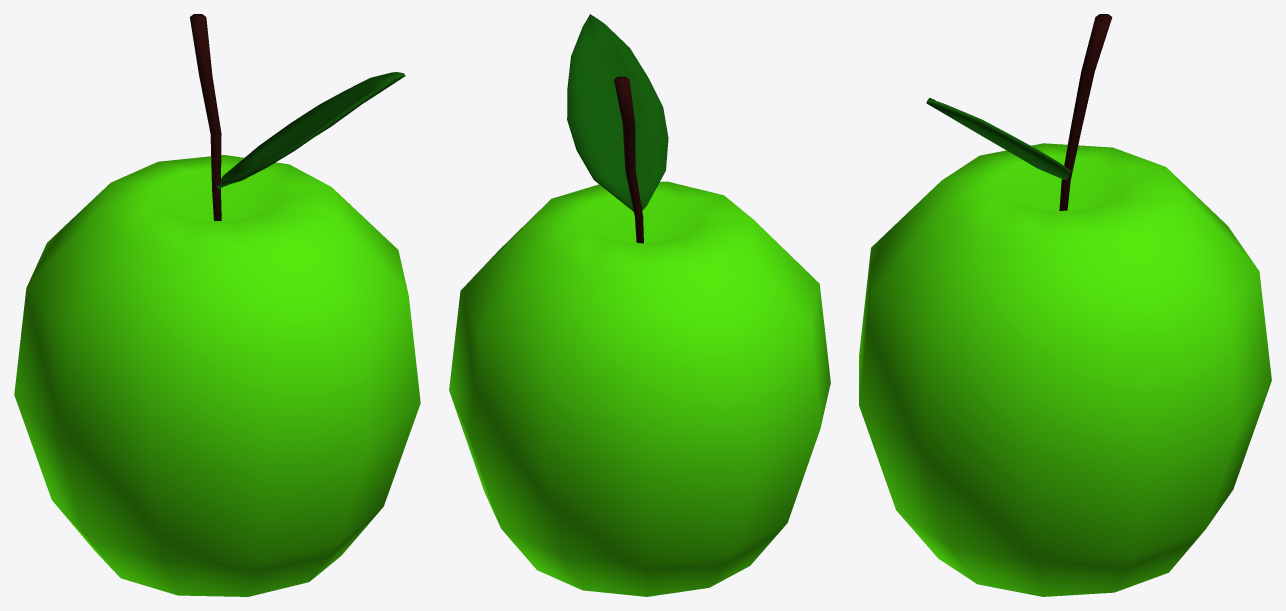
Rendered from apple.fbx.
3 views of the same model, side by side, from view 1: azimuth 30°, elevation 25°; view 2: azimuth 150°, elevation 25°; view 3: azimuth 270°, elevation 25° (orthographic). The views are drawn at different scales.
Visible parts, largest first — view 1: Apple; view 2: Apple; view 3: Apple.
Part boxes in pixels (x1,y1,x2,y2): Apple: (14, 14, 420, 596); Apple: (449, 14, 830, 596); Apple: (859, 14, 1271, 596).
Size of the model in its own units: 0.9007 by 1.29 by 0.8915.
